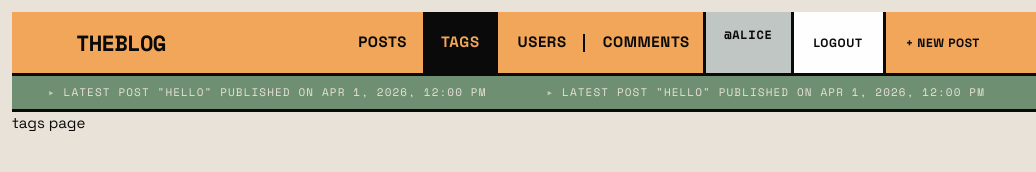
Scenario: Navbar › navigates to /posts with openCreate when + New Post is used from another page
This screenshot has width=1036, height=172.
Step 1. Click the link "+ New Post" → point(941, 42), box [883,12,1000,73]
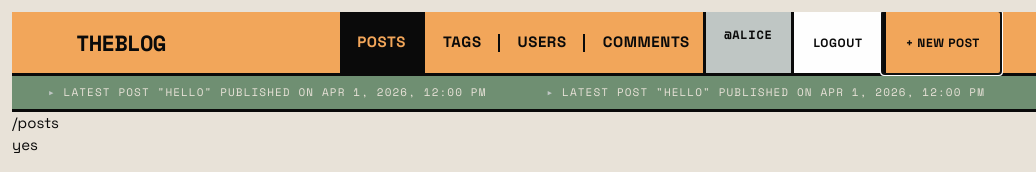
Result: the text with test id "echo-path" reads "/posts" at [12,112,59,132]
Result: the text with test id "echo-open-create" reads "yes" at [12,135,38,154]
